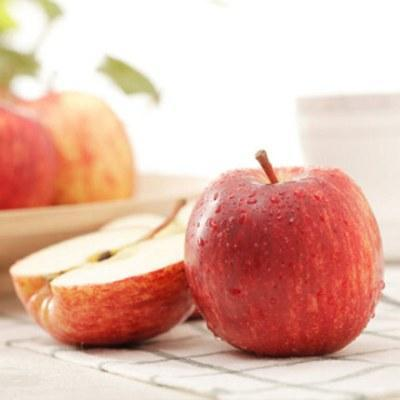apple: (182, 164, 382, 358), (8, 214, 195, 348)
